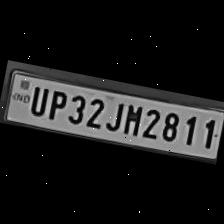1: (196, 113, 220, 150), (178, 110, 202, 146)
2: (80, 92, 108, 129), (137, 102, 163, 140)
3: (64, 89, 89, 125)
8: (156, 106, 182, 142)
J: (102, 96, 125, 132)
M: (119, 99, 144, 137)
P: (44, 85, 69, 122)
U: (24, 82, 50, 118)
